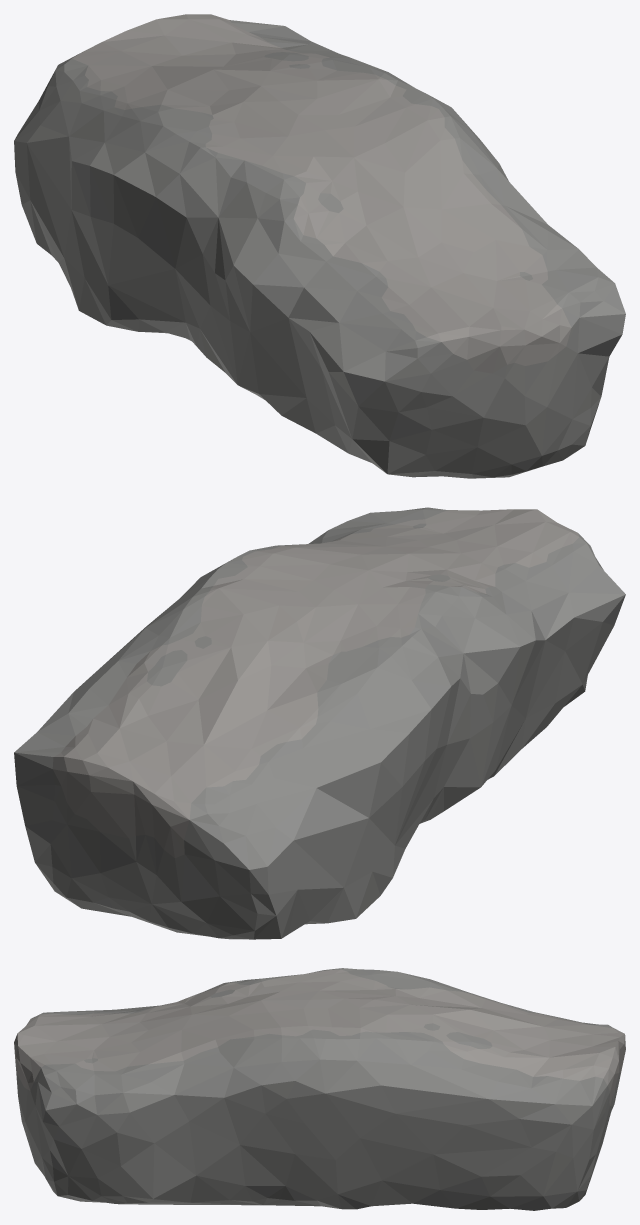
The model's file is Cavern_Floor_Narrow_Bump-02.fbx.
The picture shows the model from 3 angles, top to bottom: view 1: azimuth 30°, elevation 25°; view 2: azimuth 150°, elevation 25°; view 3: azimuth 270°, elevation 25°; orthographic projection. The views are drawn at different scales.
Parts seen in each view (by area): view 1: Cavern_Floor_Narrow_Bump-02; view 2: Cavern_Floor_Narrow_Bump-02; view 3: Cavern_Floor_Narrow_Bump-02.
Part boxes in pixels (bbox=[...]): Cavern_Floor_Narrow_Bump-02: bbox=[14, 14, 625, 478]; Cavern_Floor_Narrow_Bump-02: bbox=[14, 507, 625, 939]; Cavern_Floor_Narrow_Bump-02: bbox=[14, 968, 625, 1210].
Bounding box in the file's own units: 812 × 603 × 1833.
Materials: 1 (1 with a texture image).
